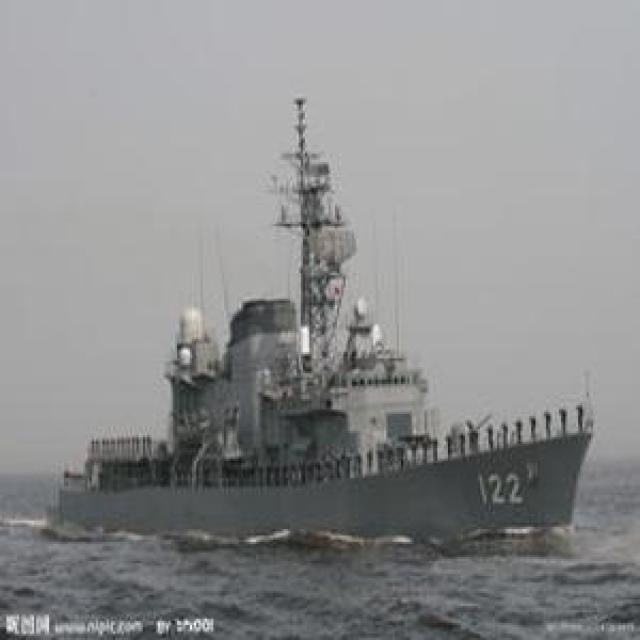navalvessels: (44, 208, 602, 535)
